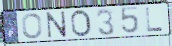3: (96, 8, 116, 37)
5: (120, 5, 140, 36)
L: (144, 6, 164, 33)
N: (46, 10, 68, 39)
O: (69, 9, 93, 38), (21, 12, 43, 40)
